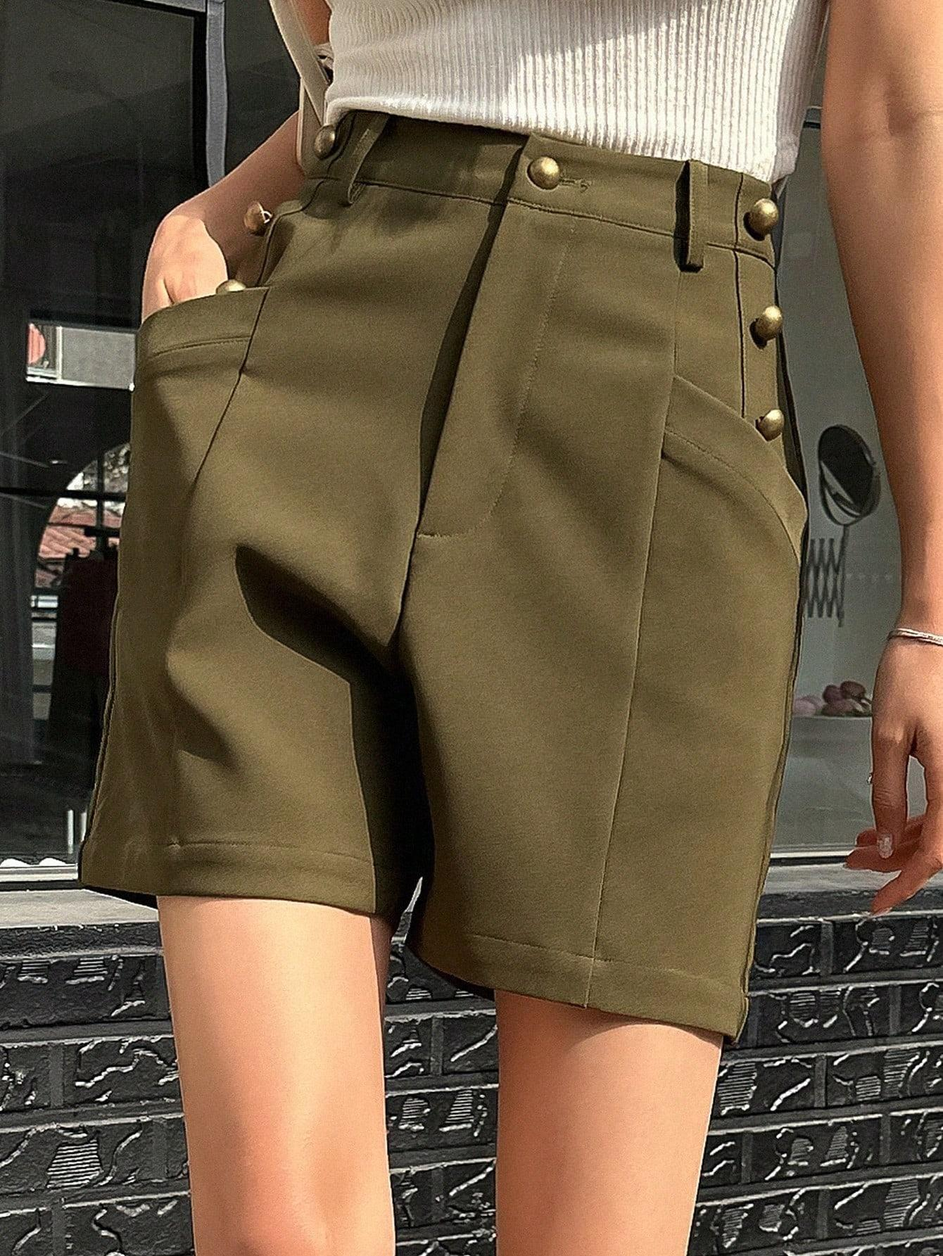Shorts: (67, 99, 826, 1050)
vest: (292, 0, 834, 190)
